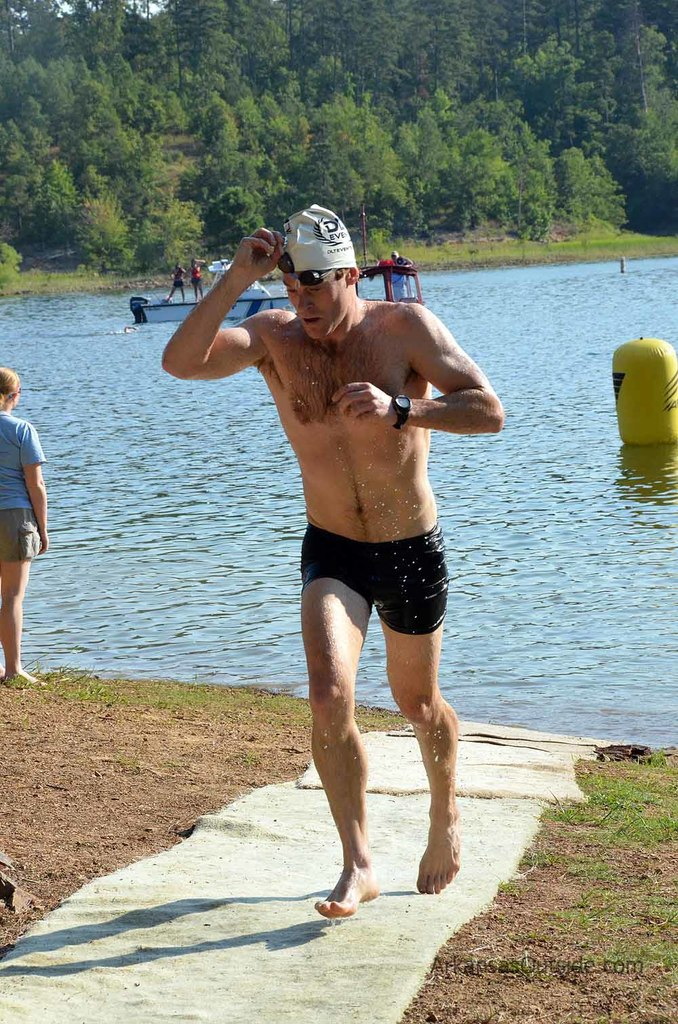Person: (0, 367, 48, 687), (392, 250, 413, 302), (186, 259, 207, 304), (167, 263, 186, 303)
